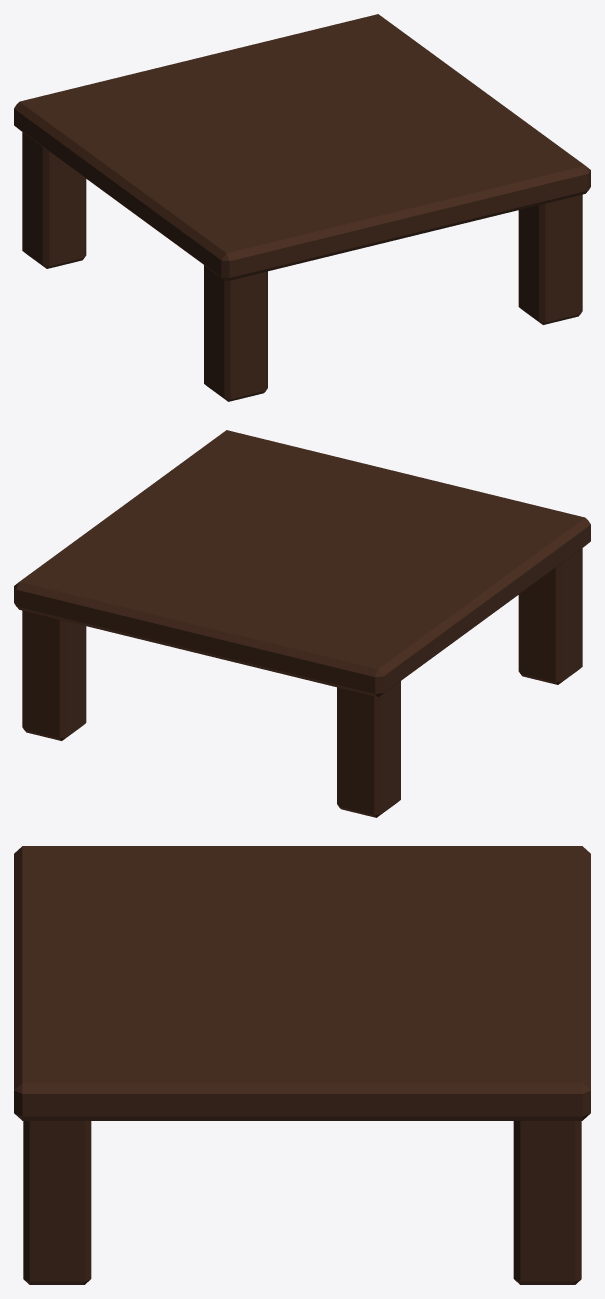
Rendered from Table1.glb.
3 views of the same model, one above another, from view 1: azimuth 30°, elevation 25°; view 2: azimuth 150°, elevation 25°; view 3: azimuth 270°, elevation 25° (orthographic). The views are drawn at different scales.
Parts seen in each view (by area): view 1: Table1; view 2: Table1; view 3: Table1.
Boxes of the visible parts, left/top/right/bottom form: Table1: left=14, top=14, right=590, bottom=401; Table1: left=14, top=430, right=590, bottom=817; Table1: left=14, top=846, right=590, bottom=1284.
Bounding box in the file's own units: 1.58 × 0.6212 × 1.58.
